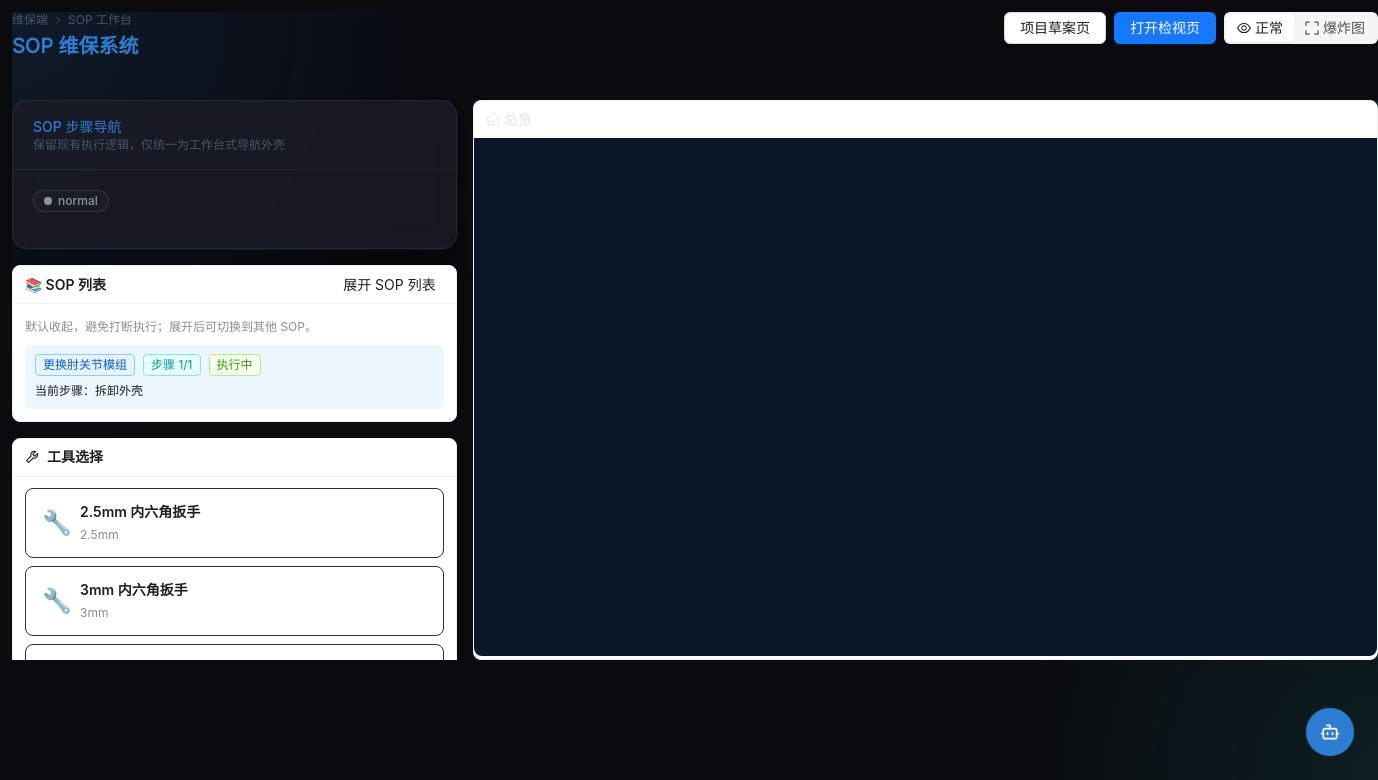
Test: SOPMaintenancePage characterization › shows empty-state text when SOP list is expanded but no scripts available
Click the button "展开 SOP 列表": (389, 284) 335,272 -> 444,296
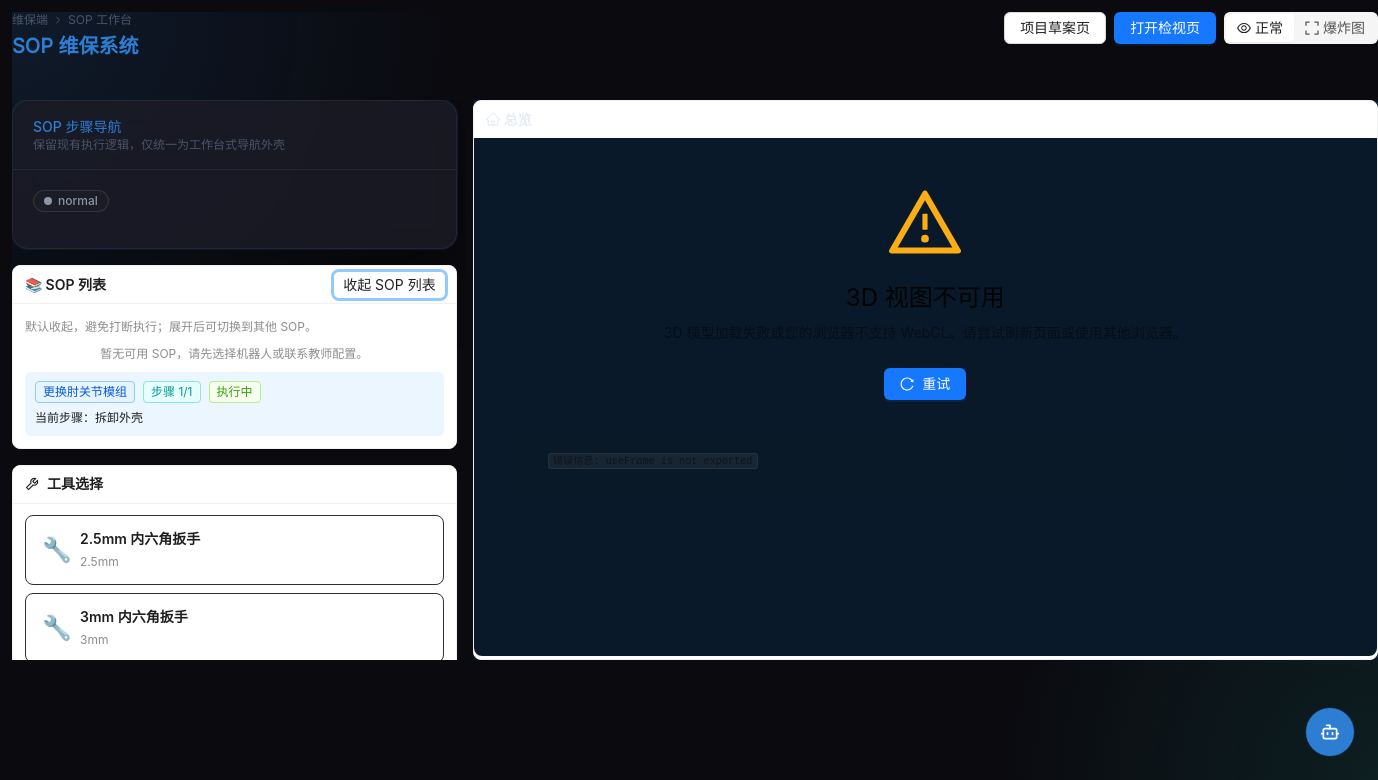
Check: the text "暂无可用 SOP，请先选择机器人或联系教师配置。" is shown, box 100,346 -> 368,361
